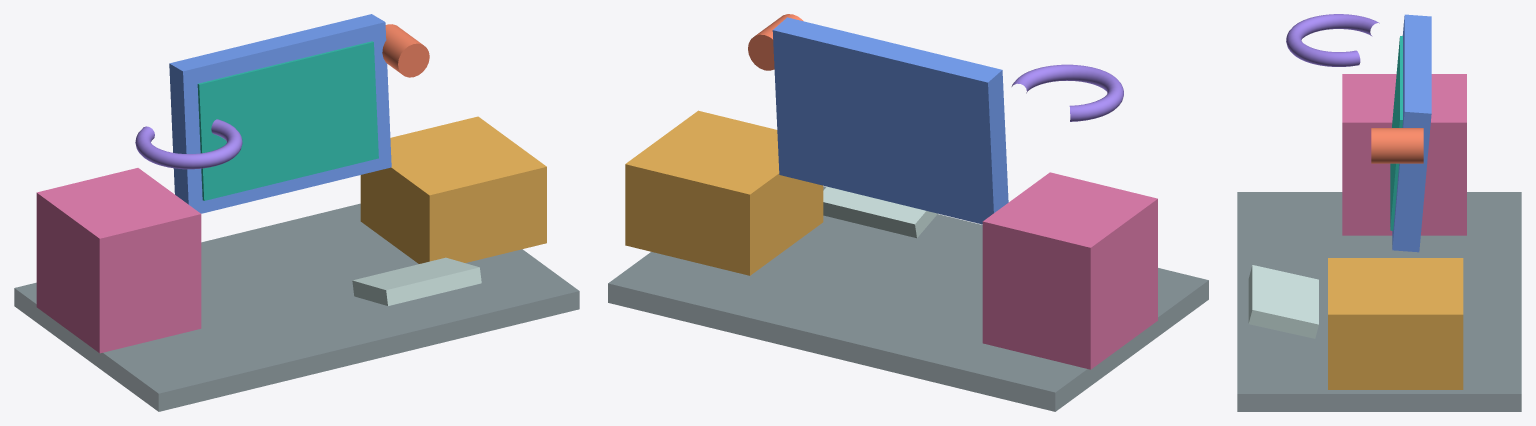
The model's file is orthographic-pilot.glb.
The picture shows the model from 3 angles, left to right: view 1: azimuth 30°, elevation 25°; view 2: azimuth 150°, elevation 25°; view 3: azimuth 270°, elevation 25°; orthographic projection. The views are drawn at different scales.
Parts seen in each view (by area): view 1: ICX_Physical_Accessories, ICX_External_UPS, ICX_Ballot_Printer, ICX_Application, ICX_Touchscreen, ICX_ATI, ICX_Assistive_Accessories, ICX_Election_Media; view 2: ICX_Physical_Accessories, ICX_Touchscreen, ICX_External_UPS, ICX_Ballot_Printer, ICX_ATI, ICX_Assistive_Accessories, ICX_Election_Media; view 3: ICX_Physical_Accessories, ICX_Ballot_Printer, ICX_External_UPS, ICX_Touchscreen, ICX_ATI, ICX_Assistive_Accessories, ICX_Election_Media, ICX_Application.
Boxes of the visible parts, x1,y1,x2,y2 form: ICX_Physical_Accessories: [14, 203, 579, 411]; ICX_External_UPS: [36, 168, 201, 353]; ICX_Ballot_Printer: [360, 116, 546, 263]; ICX_Application: [197, 41, 378, 200]; ICX_Touchscreen: [169, 14, 391, 213]; ICX_ATI: [352, 257, 481, 305]; ICX_Assistive_Accessories: [135, 119, 242, 169]; ICX_Election_Media: [382, 24, 429, 77]; ICX_Physical_Accessories: [608, 186, 1208, 411]; ICX_Touchscreen: [772, 17, 1008, 224]; ICX_External_UPS: [982, 172, 1157, 369]; ICX_Ballot_Printer: [625, 110, 823, 275]; ICX_ATI: [823, 186, 937, 238]; ICX_Assistive_Accessories: [1011, 64, 1123, 121]; ICX_Election_Media: [748, 14, 803, 70]; ICX_Physical_Accessories: [1237, 192, 1521, 411]; ICX_Ballot_Printer: [1328, 258, 1463, 389]; ICX_External_UPS: [1342, 74, 1466, 235]; ICX_Touchscreen: [1392, 14, 1431, 252]; ICX_ATI: [1248, 265, 1318, 338]; ICX_Assistive_Accessories: [1286, 14, 1379, 66]; ICX_Election_Media: [1371, 128, 1423, 163]; ICX_Application: [1390, 36, 1402, 230].
Bounding box in the file's own units: 5.54 × 3.03 × 3.15.
